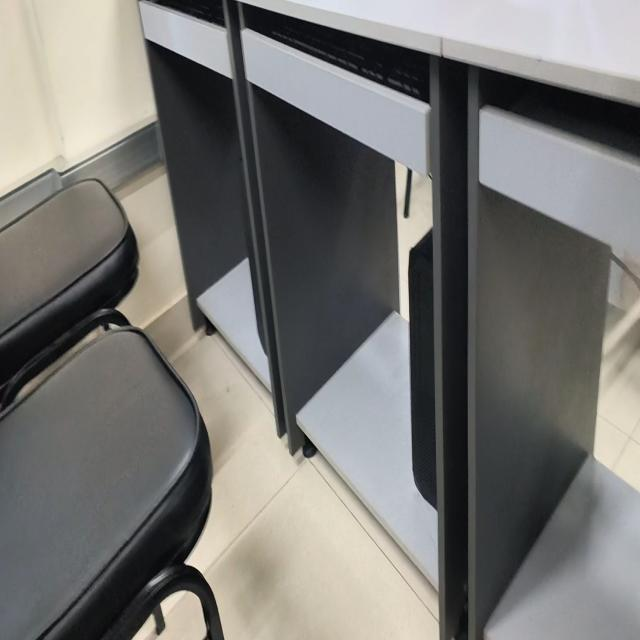Chair: (0, 311, 222, 639), (0, 179, 138, 383)
Cpu: (409, 228, 436, 510)
